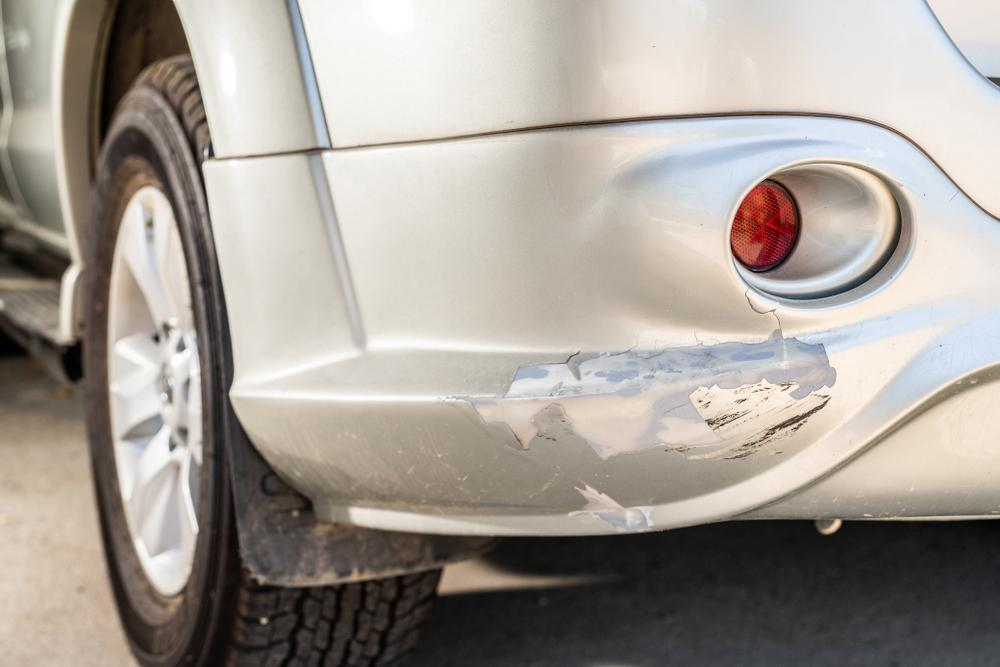dent: (452, 138, 782, 394), (613, 0, 800, 112)
scratch: (461, 336, 853, 468)
